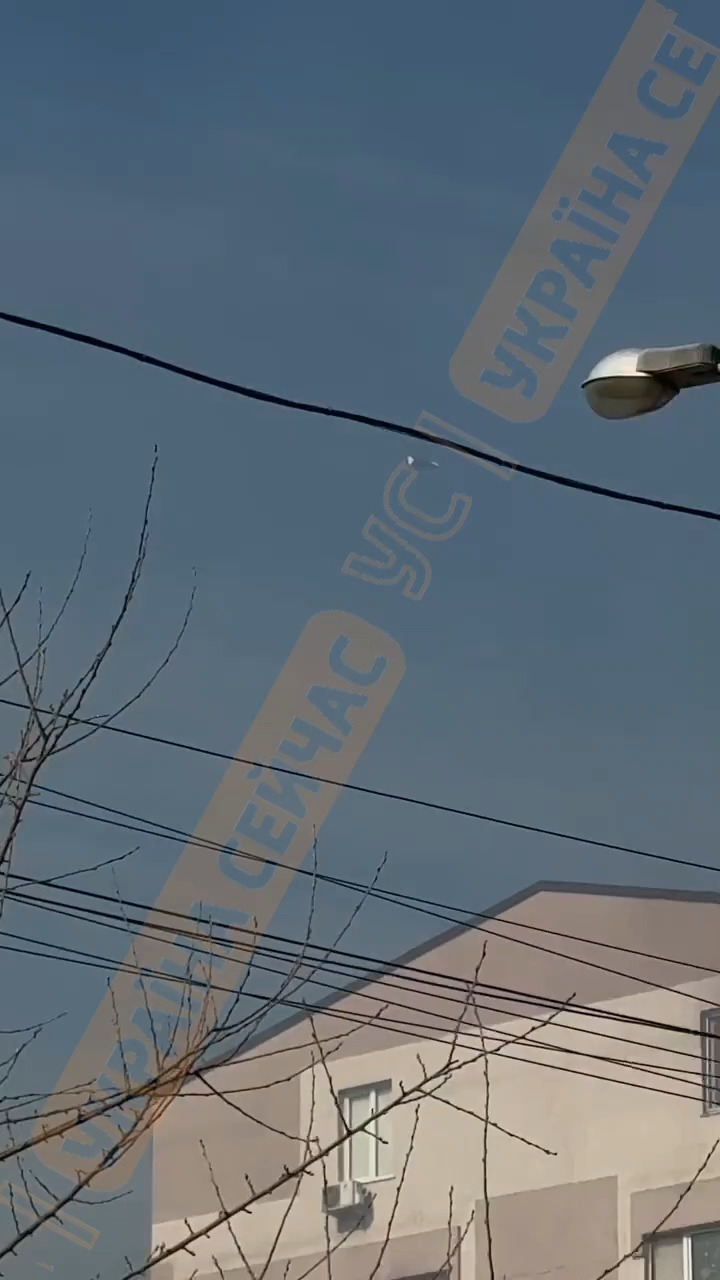shahed: (396, 449, 444, 475)
